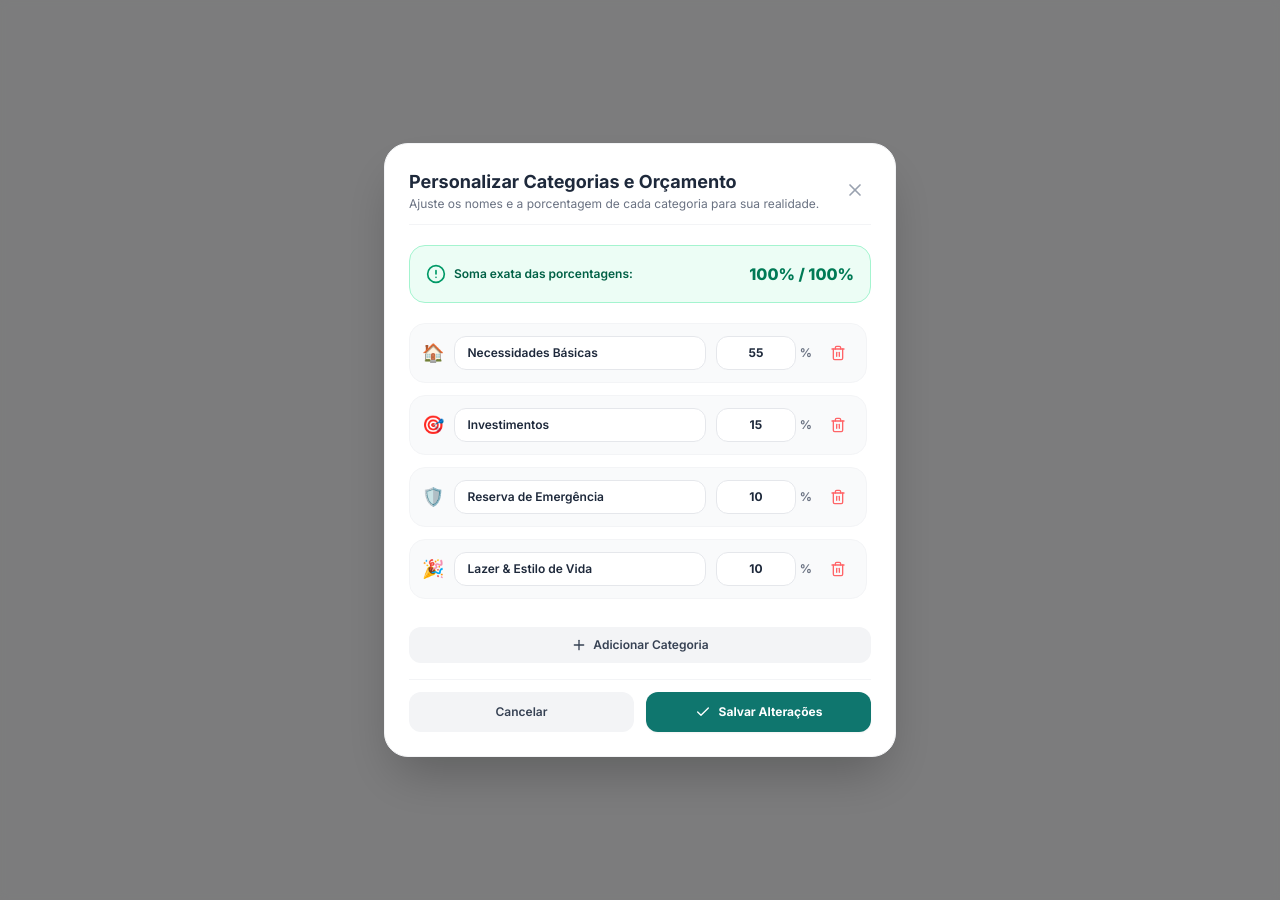
Test: BudgetCategoryModal component › disables save button when sum of percentages is not 100%
Replace the text in the 1st number field showing "55" with "60" at (756, 353), box [716, 336, 796, 370]
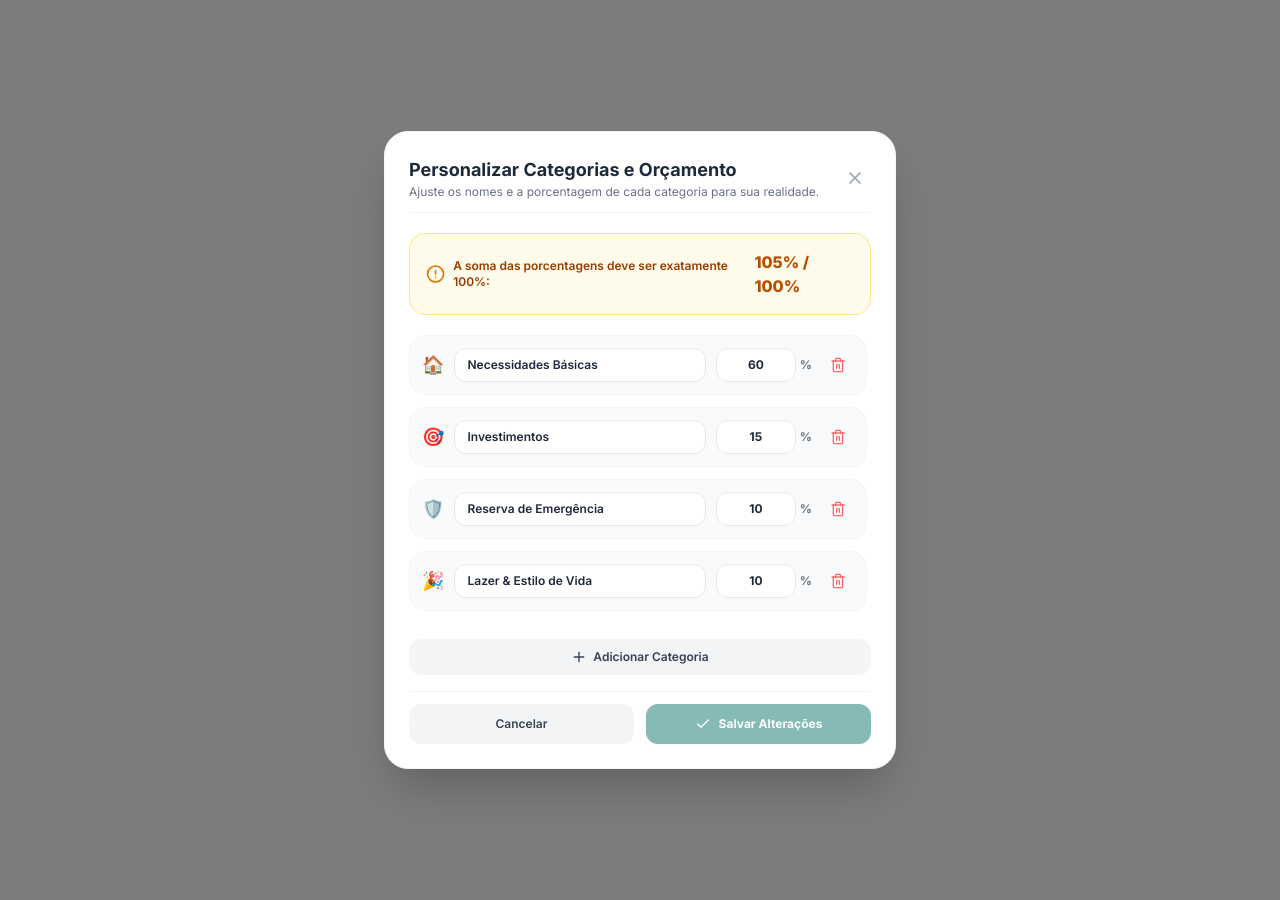
Expected: the text "105% / 100%" is shown, [754, 252, 809, 296]
Expected: the button "Salvar Alterações" is disabled, [646, 704, 871, 744]
